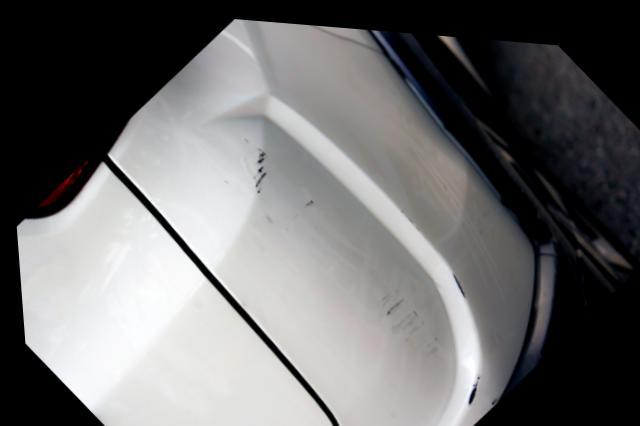scratch: (245, 130, 444, 350), (461, 363, 477, 405), (445, 264, 465, 293)
